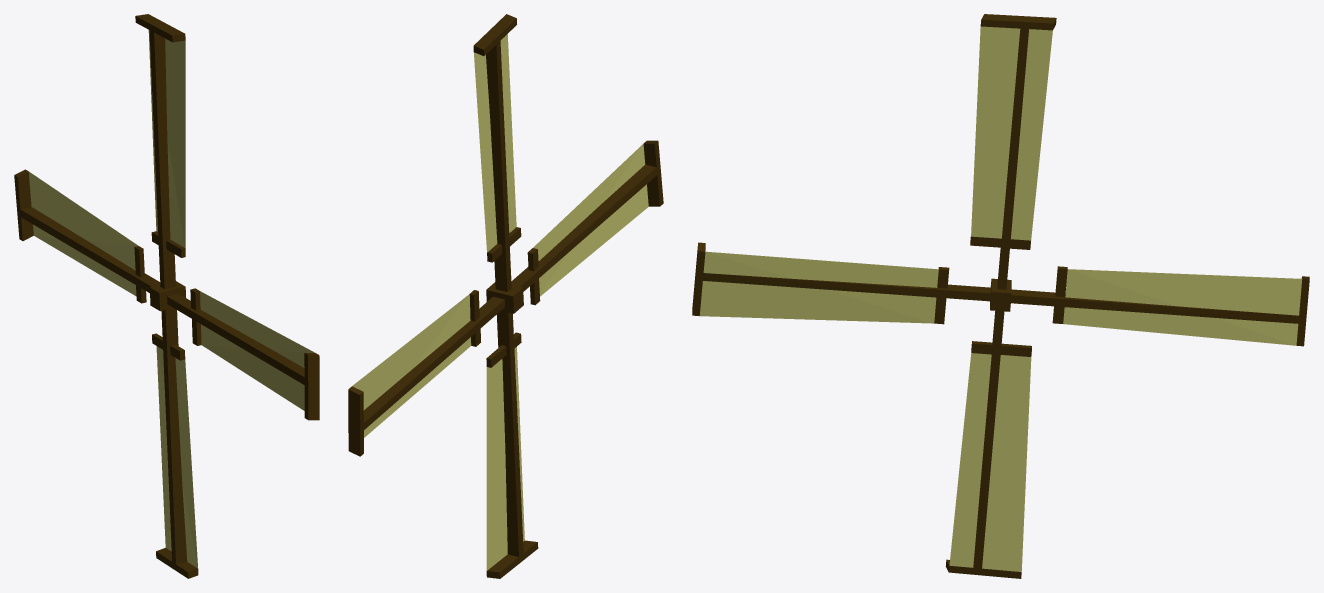
The model's file is sails0019.obj.
The picture shows the model from 3 angles, left to right: view 1: azimuth 30°, elevation 25°; view 2: azimuth 150°, elevation 25°; view 3: azimuth 270°, elevation 25°; orthographic projection. The views are drawn at different scales.
Parts seen in each view (by area): view 1: Sails_Mesh; view 2: Sails_Mesh; view 3: Sails_Mesh.
Part boxes in pixels (left/top/right/bottom): Sails_Mesh: left=14, top=14, right=319, bottom=578; Sails_Mesh: left=348, top=14, right=663, bottom=578; Sails_Mesh: left=692, top=14, right=1309, bottom=578.
Bounding box in the file's own units: 0.5135 × 9.97 × 9.98.
